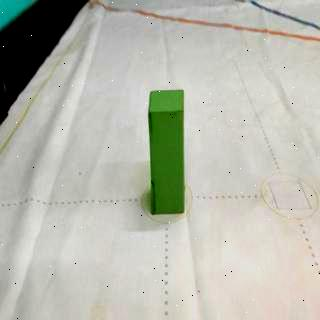greenbox: (146, 88, 186, 214)
